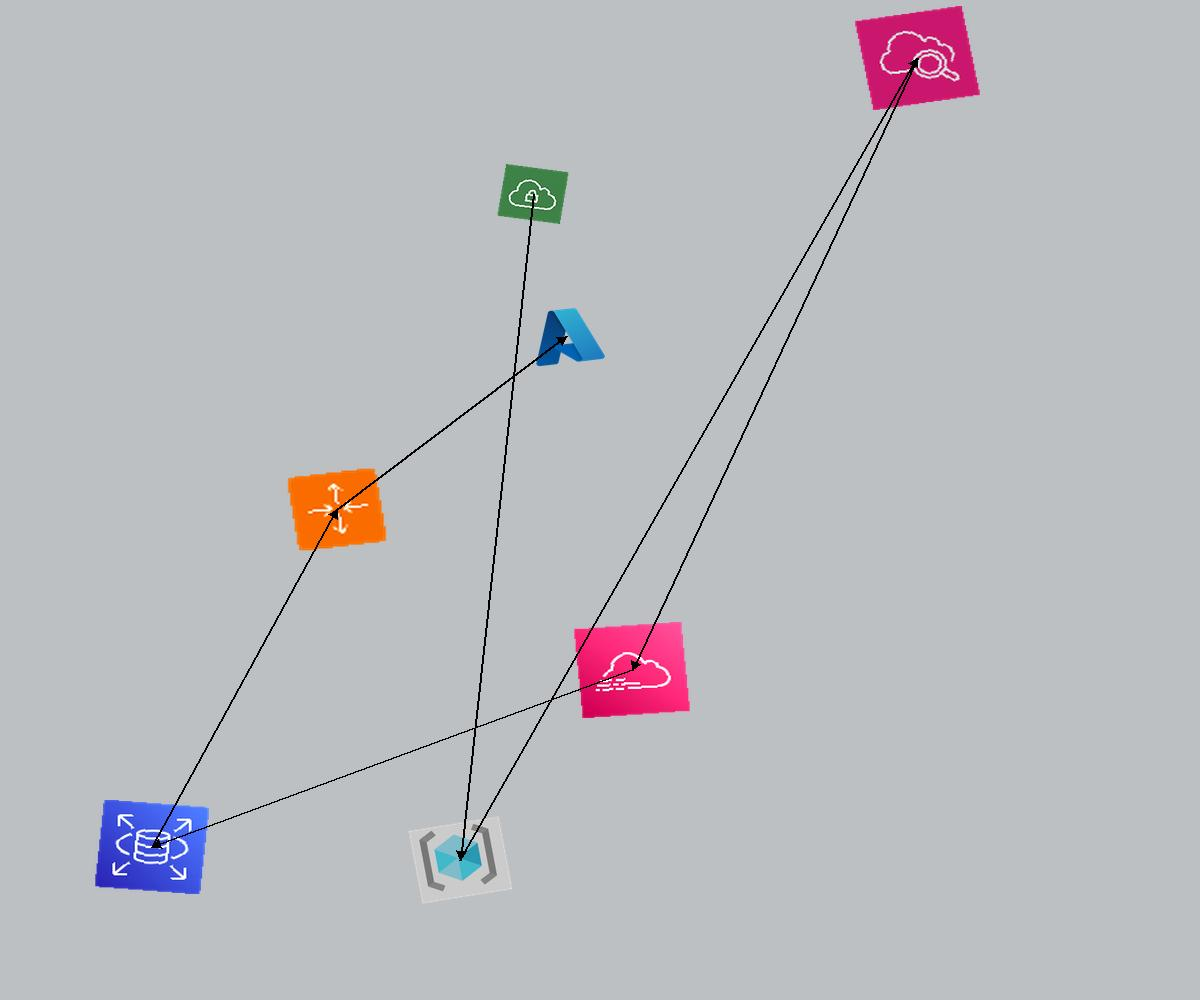AWS-CloudTrail: (573, 621, 691, 719)
AWS-CloudWatch: (854, 5, 981, 111)
AWS-Private_vpc: (497, 164, 569, 224)
AWS-RDS: (94, 799, 210, 895)
AWS-Scaling-group: (286, 467, 388, 552)
Azure_resource_group: (408, 816, 513, 904)
Azure_services: (524, 301, 609, 371)
